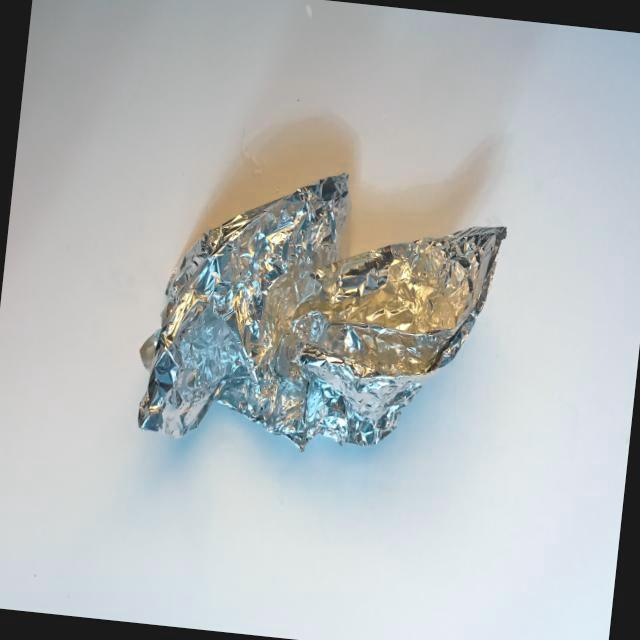metal: (109, 128, 526, 533)
